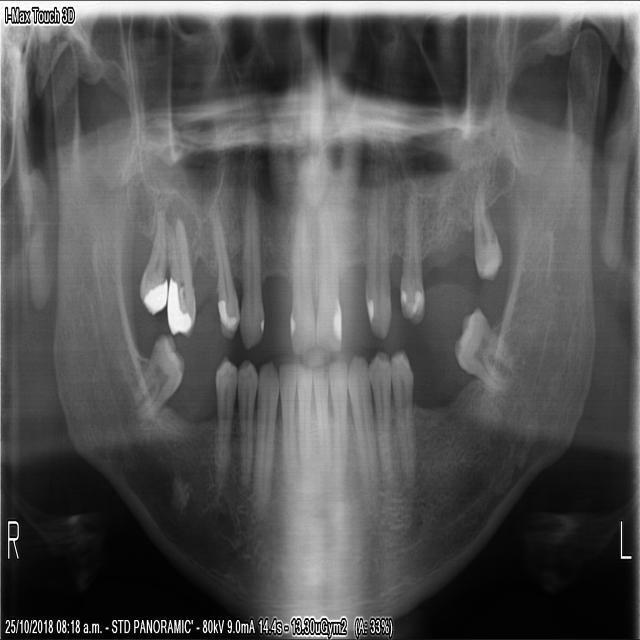LCD: (348, 353, 379, 487)
LCU: (363, 194, 392, 340)
LID: (328, 354, 348, 475), (313, 360, 331, 468)
LIU: (315, 215, 343, 355)
LMD: (451, 303, 513, 397)
LMU: (469, 182, 504, 288)
LPMD: (392, 345, 417, 487), (370, 349, 392, 474)
LPMU: (398, 189, 425, 329)
RCD: (252, 360, 279, 504)
RCU: (239, 187, 265, 347)
RID: (278, 359, 296, 470), (295, 360, 313, 464)
RIU: (288, 204, 316, 360)
RMD: (133, 332, 188, 419)
RMU: (165, 204, 198, 339), (134, 210, 168, 317)
RPMD: (212, 353, 238, 480), (237, 355, 257, 482)
RPMU: (203, 198, 240, 343)
